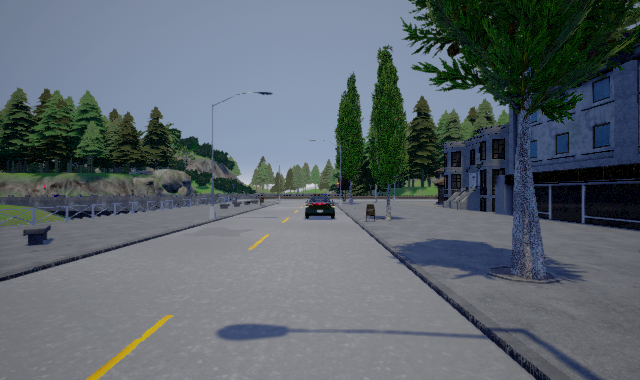vehicle: (305, 194, 335, 219)
